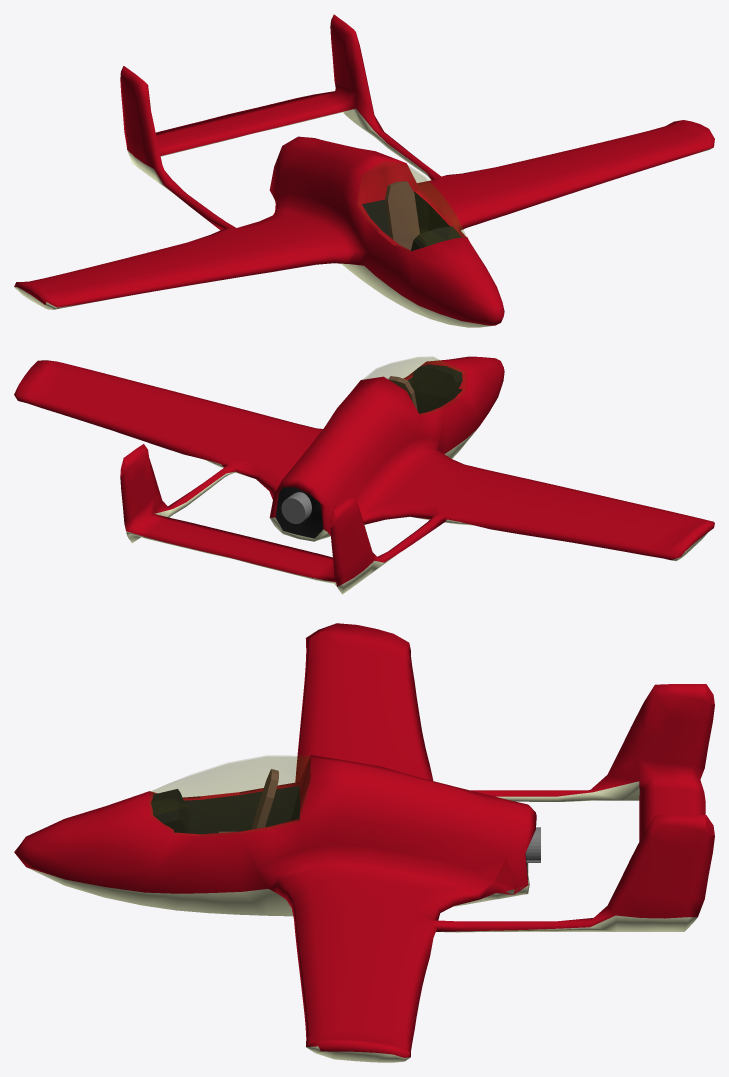
File: Aircraft 1 body red.glb
3 renders of one model, top to bottom at view 1: azimuth 30°, elevation 25°; view 2: azimuth 150°, elevation 25°; view 3: azimuth 270°, elevation 25°, orthographic. The views are drawn at different scales.
Visible parts, largest first — view 1: Retopo_Original Aircraft, Canopy; view 2: Retopo_Original Aircraft, Canopy; view 3: Retopo_Original Aircraft, Canopy.
Boxes of the visible parts, x1,y1,x2,y2 form: Retopo_Original Aircraft: (14,14,714,327); Canopy: (357,161,466,251); Retopo_Original Aircraft: (14,356,714,594); Canopy: (364,357,465,414); Retopo_Original Aircraft: (14,623,714,1062); Canopy: (149,756,309,835).
Bounding box in the file's own units: 12.65 × 2.29 × 8.96.
